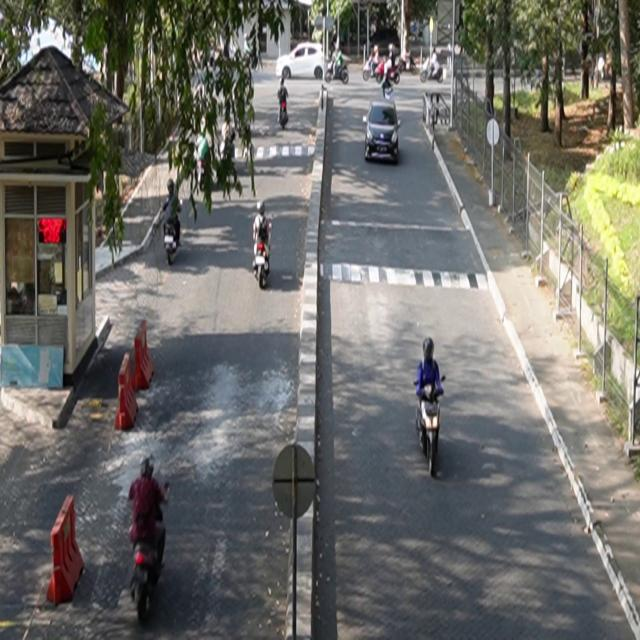car: (364, 101, 403, 164), (276, 43, 327, 81)
